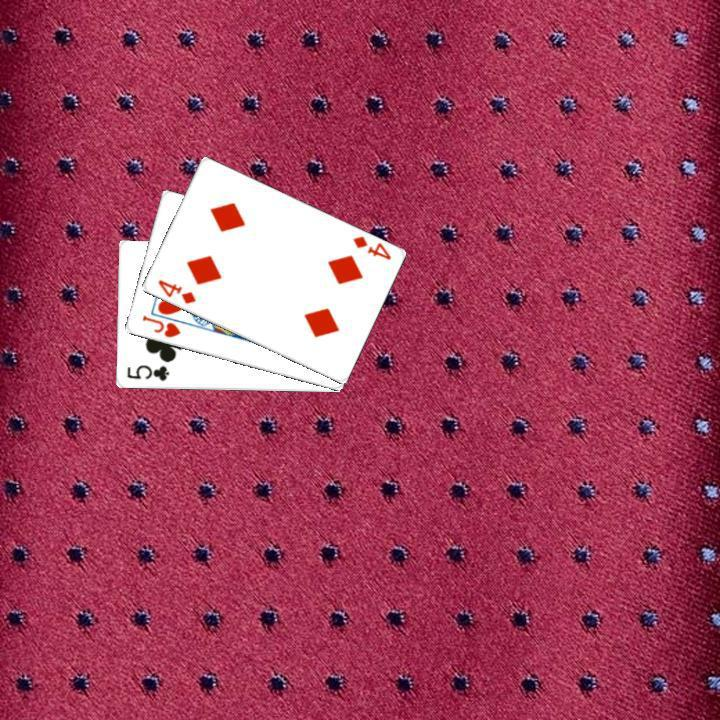4: (348, 231, 393, 262), (153, 275, 197, 306)
5: (122, 361, 170, 383)
J: (137, 311, 182, 340)
